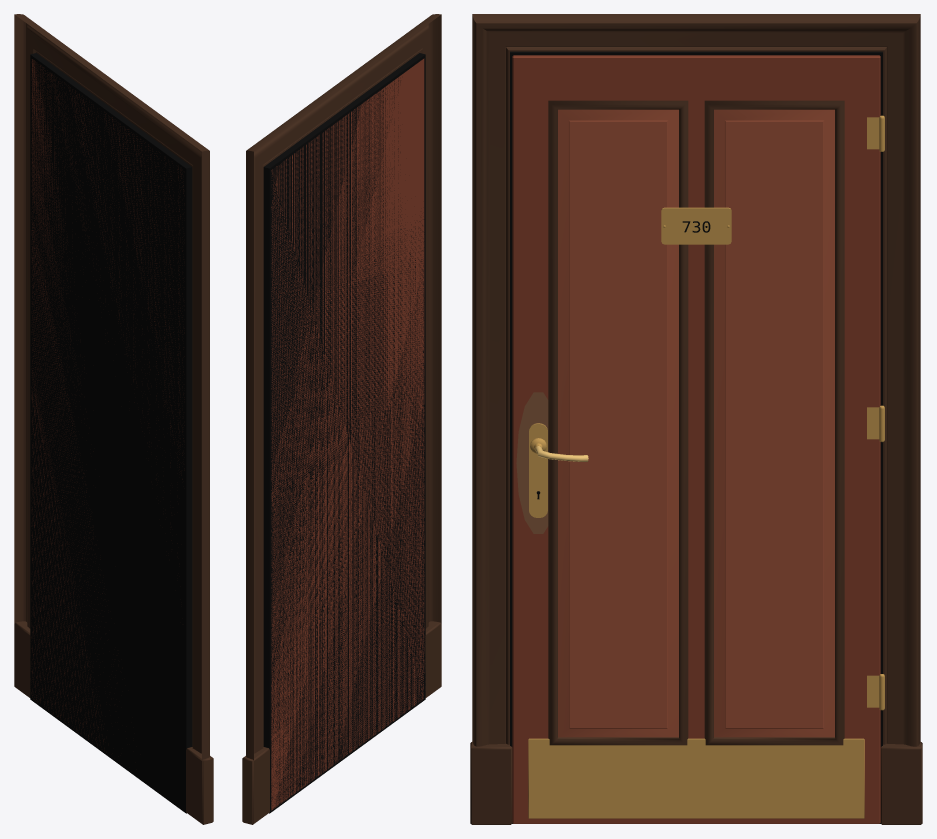
The model's file is hotel_door_e@1.glb.
The picture shows the model from 3 angles, left to right: view 1: azimuth 30°, elevation 25°; view 2: azimuth 150°, elevation 25°; view 3: azimuth 270°, elevation 25°; orthographic projection. The views are drawn at different scales.
Parts seen in each view (by area): view 1: fuge, bekleidung, blatt; view 2: fuge, blatt, bekleidung; view 3: fuellungen, bekleidung, blatt, kehlleisten, beschlag, fuge, nummernschild, abrieb.
Boxes of the visible parts, x1,y1,x2,y2 form: fuge: (30, 53, 192, 813); bekleidung: (14, 14, 213, 824); blatt: (31, 59, 184, 752); fuge: (263, 53, 425, 813); blatt: (271, 58, 424, 810); bekleidung: (242, 14, 441, 824); fuellungen: (558, 109, 834, 737); bekleidung: (470, 14, 922, 824); blatt: (512, 55, 880, 823); kehlleisten: (548, 100, 844, 745); beschlag: (528, 115, 884, 818); fuge: (510, 51, 882, 823); nummernschild: (661, 207, 731, 244); abrieb: (516, 392, 548, 533).
Bounding box in the file's own units: 0.1118 × 2.22 × 1.13.
